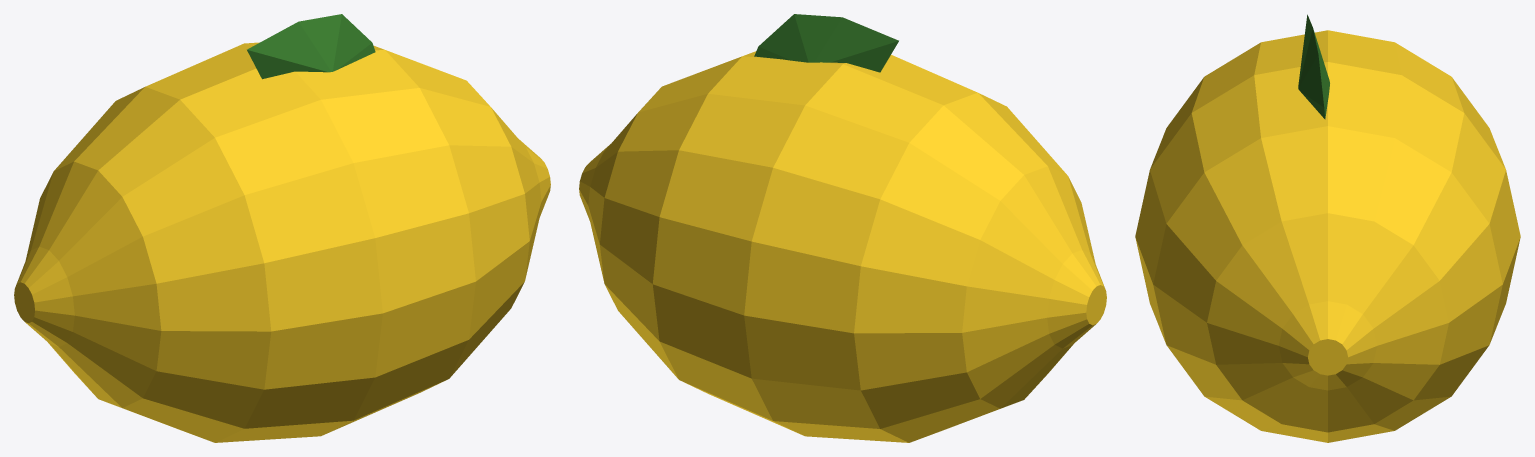
File: LemonFruit.obj
3 views of the same model, side by side, from view 1: azimuth 30°, elevation 25°; view 2: azimuth 150°, elevation 25°; view 3: azimuth 270°, elevation 25° (orthographic). The views are drawn at different scales.
Parts seen in each view (by area): view 1: LemonFruit_LemonRind, LemonFruit_LemonLeaf; view 2: LemonFruit_LemonRind, LemonFruit_LemonLeaf; view 3: LemonFruit_LemonRind, LemonFruit_LemonLeaf.
Boxes of the visible parts, left/top/right/bottom form: LemonFruit_LemonRind: left=14, top=42, right=550, bottom=442; LemonFruit_LemonLeaf: left=247, top=14, right=375, bottom=79; LemonFruit_LemonRind: left=579, top=51, right=1106, bottom=442; LemonFruit_LemonLeaf: left=754, top=14, right=898, bottom=72; LemonFruit_LemonRind: left=1135, top=30, right=1520, bottom=442; LemonFruit_LemonLeaf: left=1298, top=14, right=1329, bottom=119.
Size of the model in its own units: 1.11 by 0.8302 by 0.7482.
